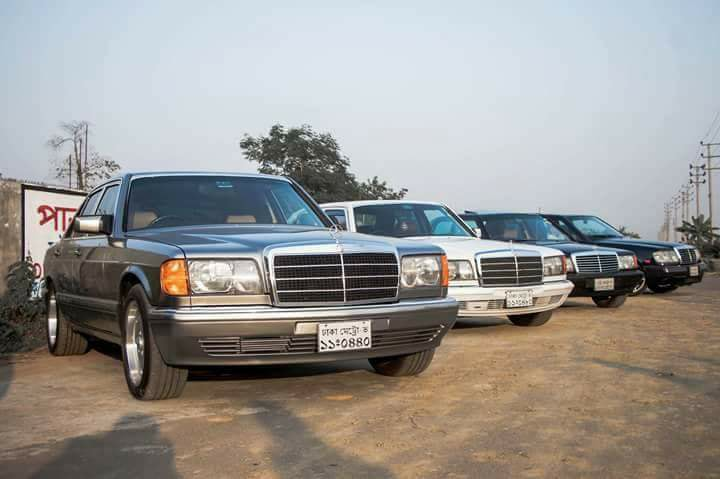registration_plate: (317, 319, 372, 353), (505, 289, 533, 307), (594, 278, 614, 290), (689, 266, 699, 276)
